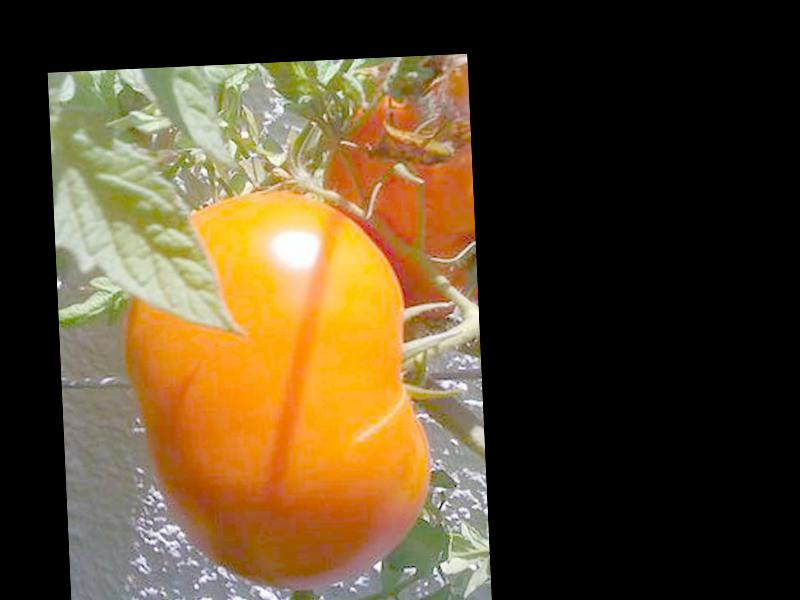Tomato: (119, 183, 436, 595)
